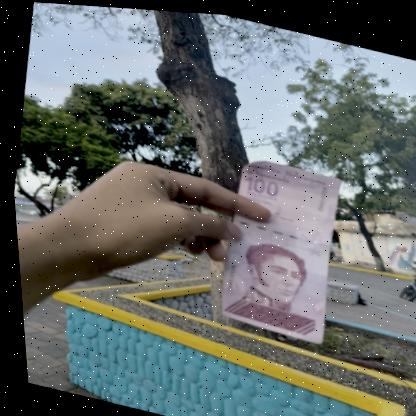one_hundred-front-vef: (205, 148, 349, 341)
